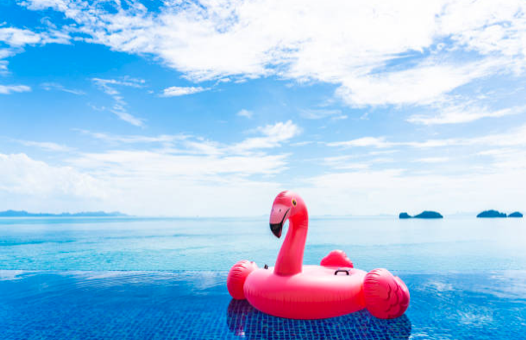Flamingo: (225, 189, 411, 322)
